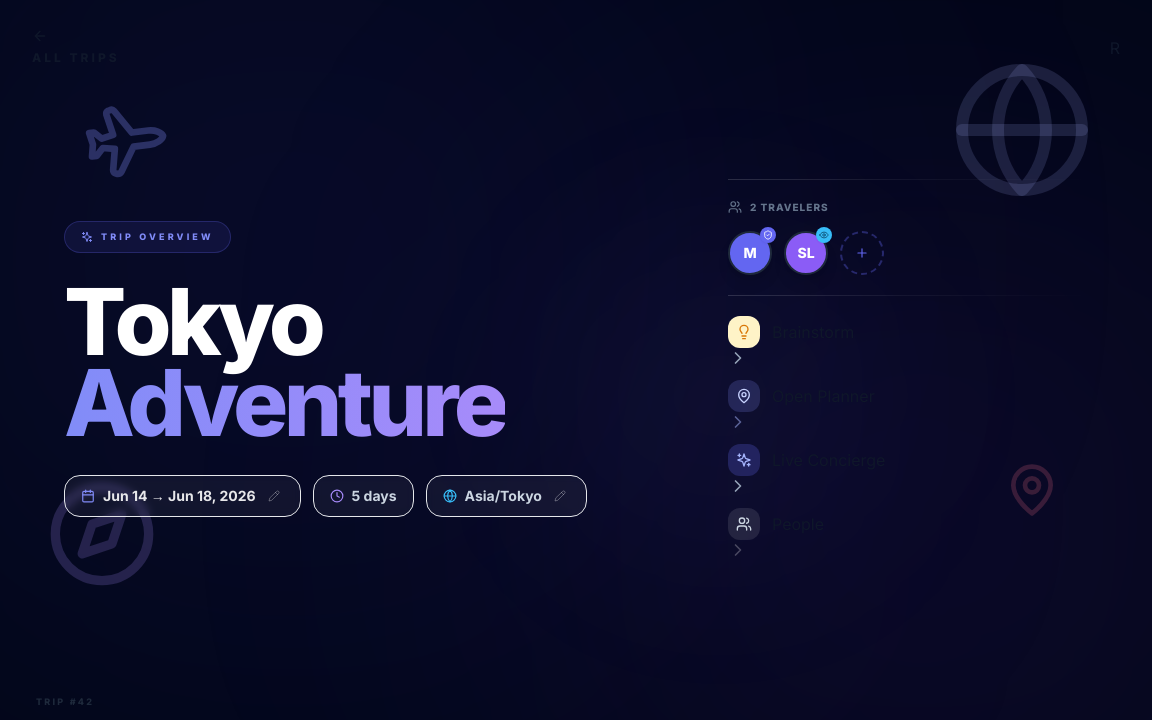
Scenario: TripHub — invite › surfaces the API error message when invite fails
Expected: the text "Tokyo" is shown, [64,281,321,362]
Click the button titled "Add traveler": (862, 253) [840,231,884,275]
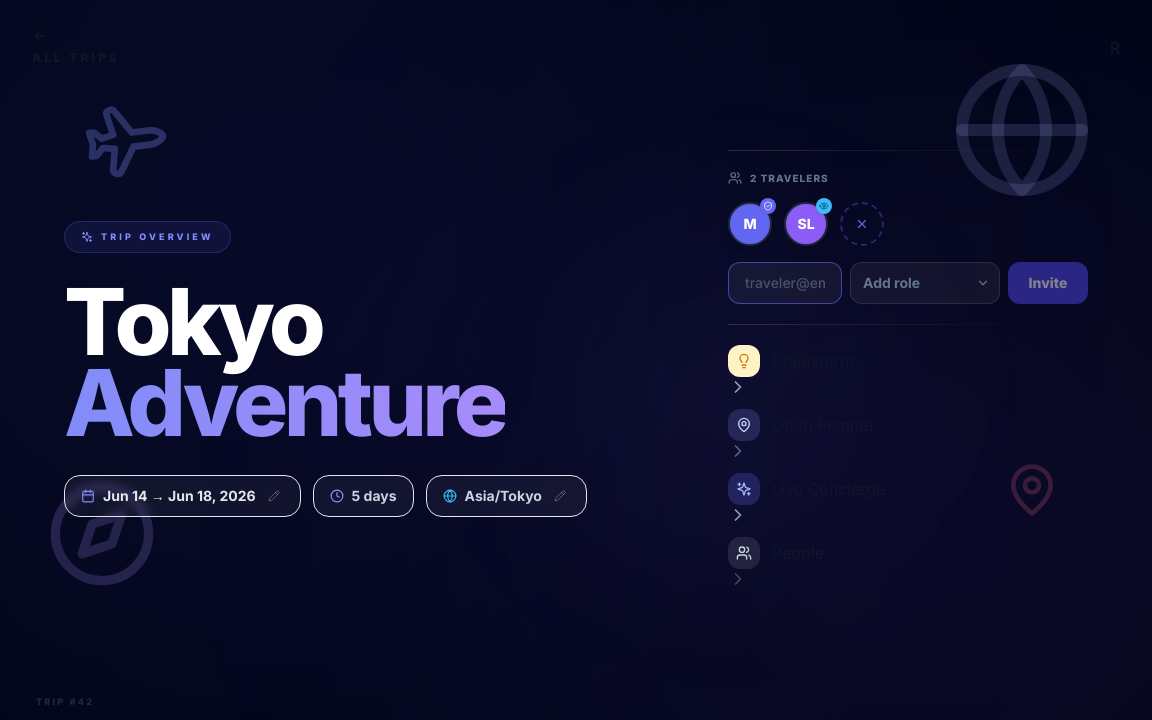
In the field with placeholder "traveler@email.com": (785, 283) [728,262,842,304], type "dupe@person.com"
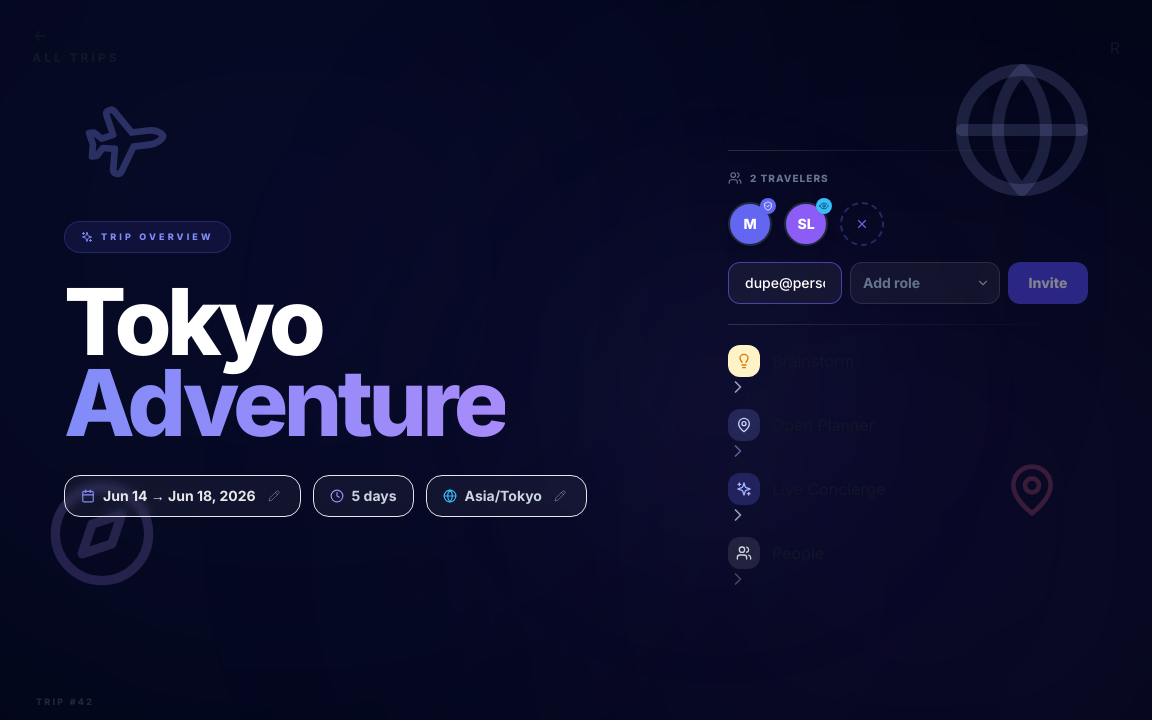
Select "Admin" in the dropdown: (925, 283) [850,262,1000,304]
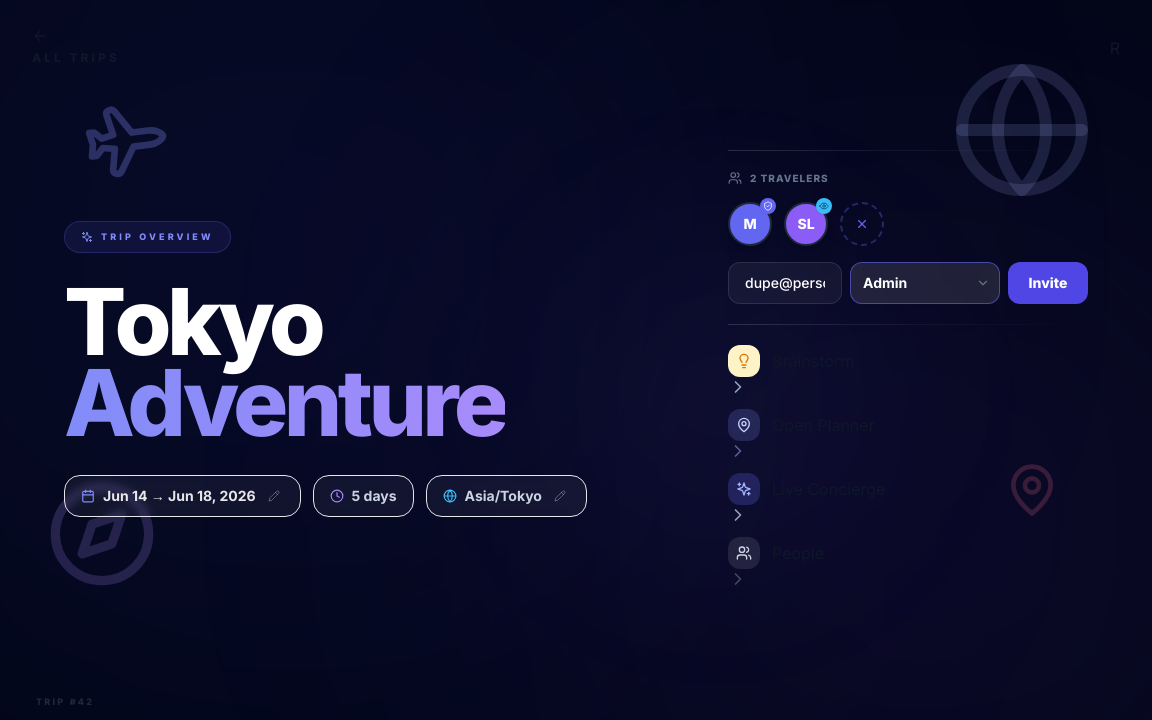
Click the button "Invite": (1048, 283) [1008,262,1088,304]
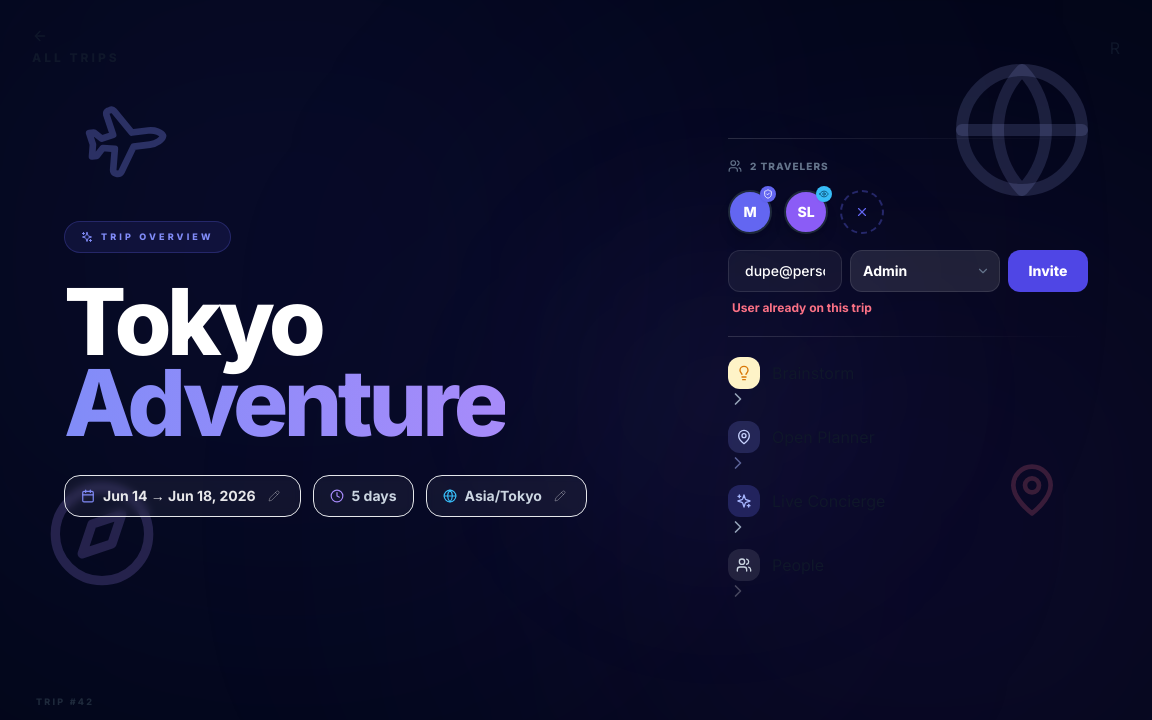
Result: the text "User already on this trip" is shown at [732,300,872,315]
